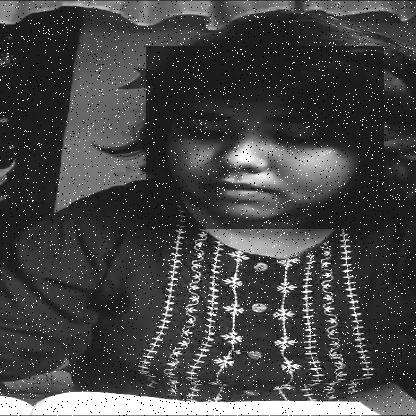Normal: (146, 46, 384, 229)
